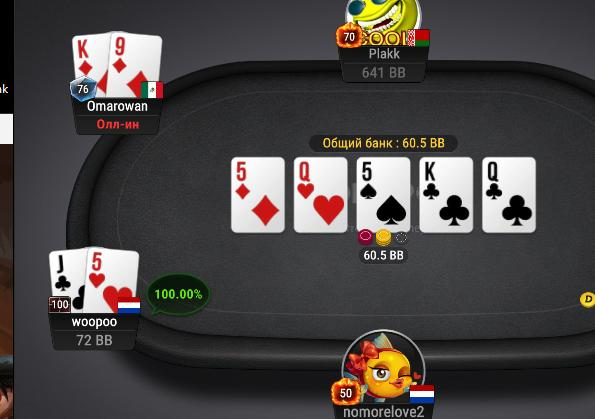5d: (232, 157, 285, 232)
5h: (87, 248, 140, 314)
5s: (358, 158, 409, 231)
9d: (108, 30, 161, 99)
Jc: (49, 250, 87, 314)
Kc: (421, 158, 473, 233)
Kd: (72, 33, 110, 98)
Qc: (483, 158, 536, 232)
Qh: (295, 158, 348, 234)
